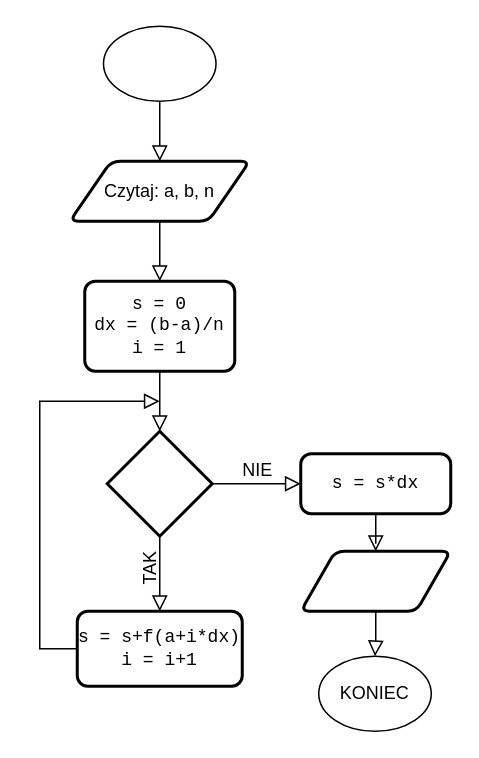
Image size: 479x758. Some labels were removed from this diagram. Here are the shapes that lost their labels. From the top down, the box of each, then its label:
(102, 25, 216, 101): START
(105, 429, 213, 537): i <= n
(298, 549, 452, 612): Pisz: s
